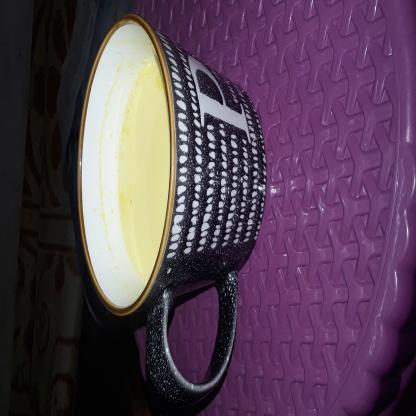cup: (6, 138, 229, 416)
